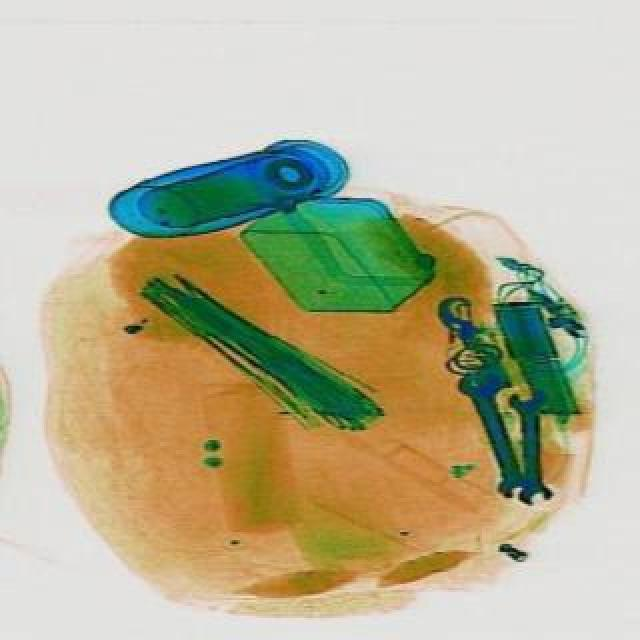scissors: (450, 364, 534, 500), (502, 384, 546, 504)
